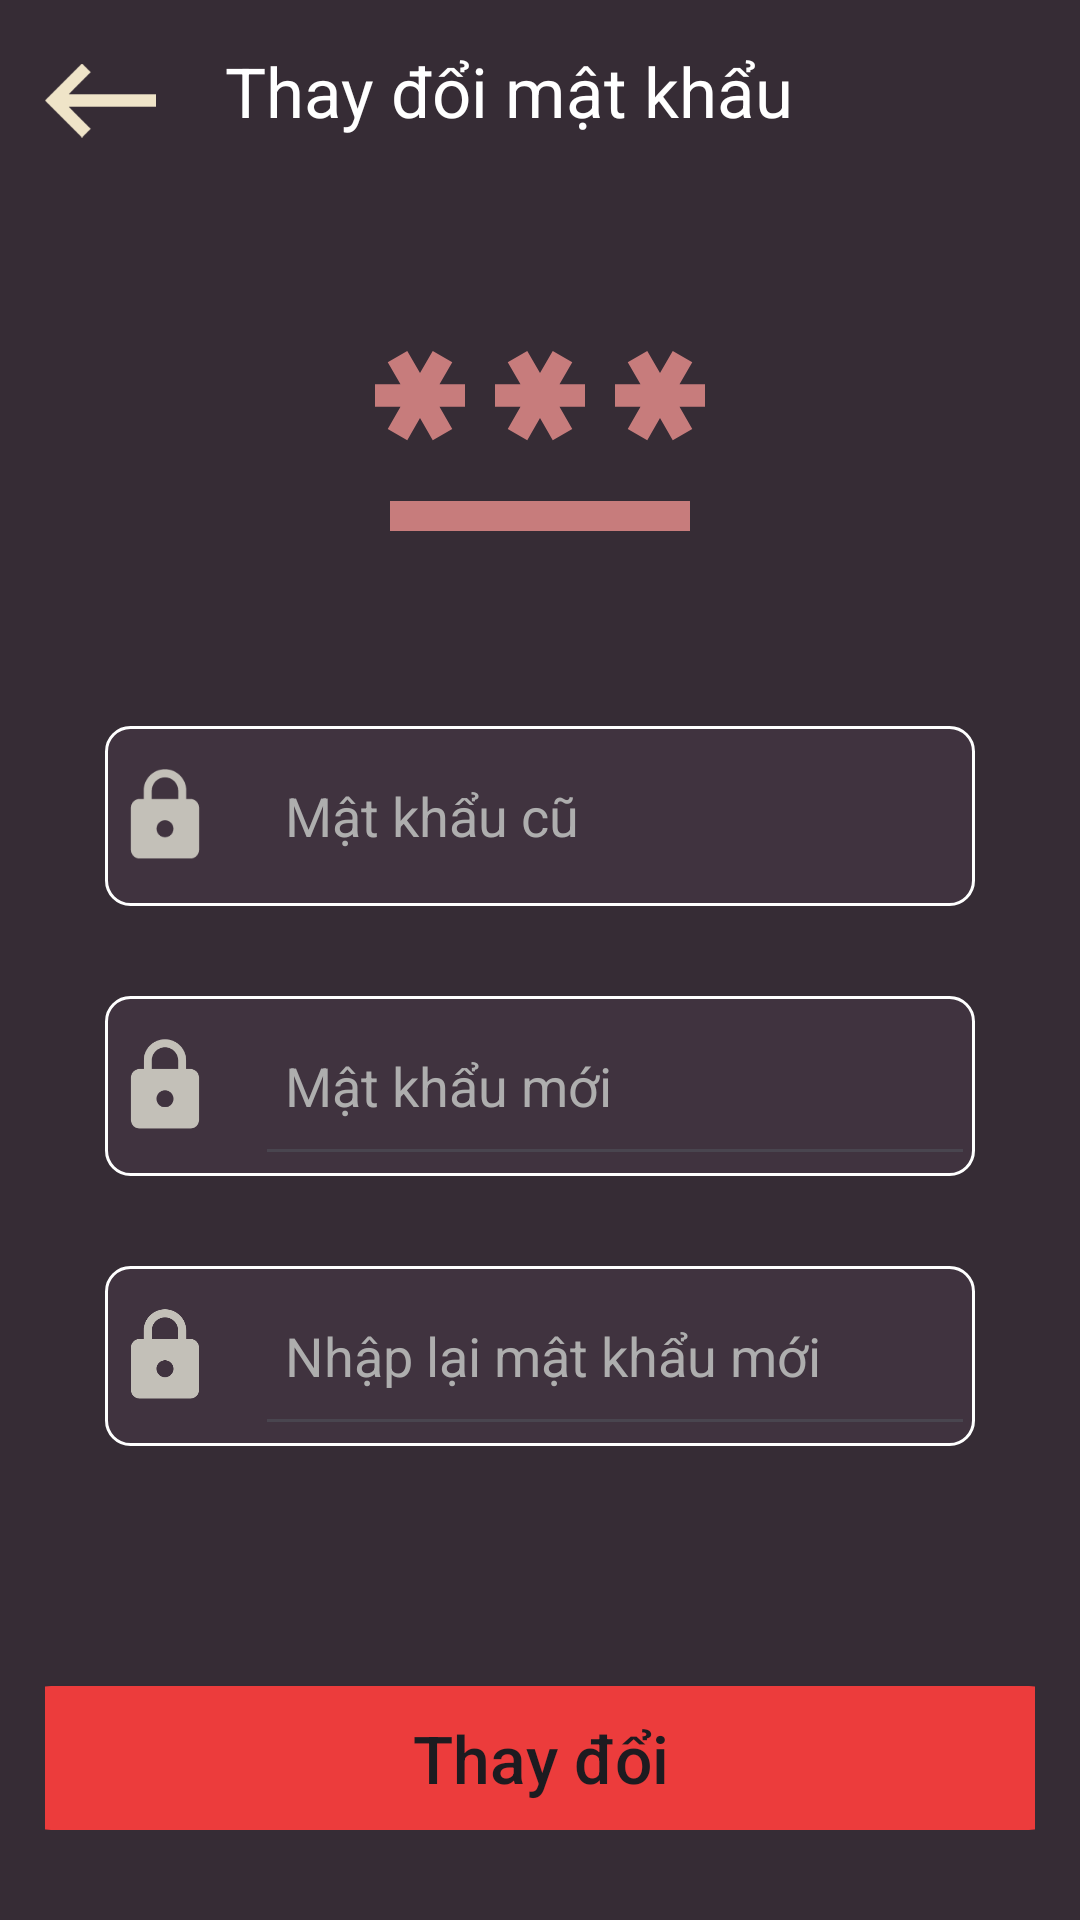

Icon click points for this 1080px×1920px phone screenshot, format [x,y]:
lock: [165,814], [165,1084], [165,1354]
password: [540,441]
